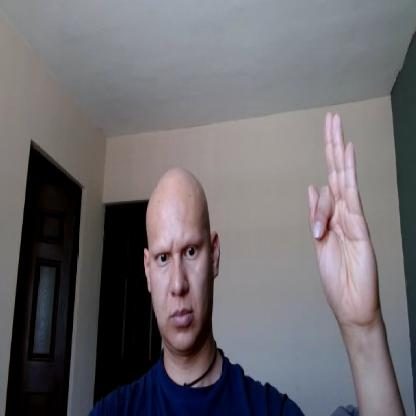F: (306, 108, 377, 325)
